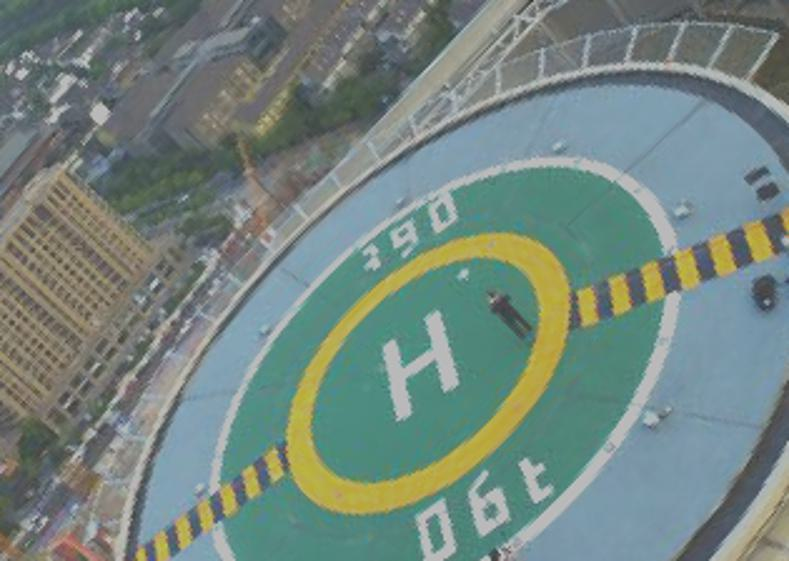Apron: (283, 222, 572, 524)
